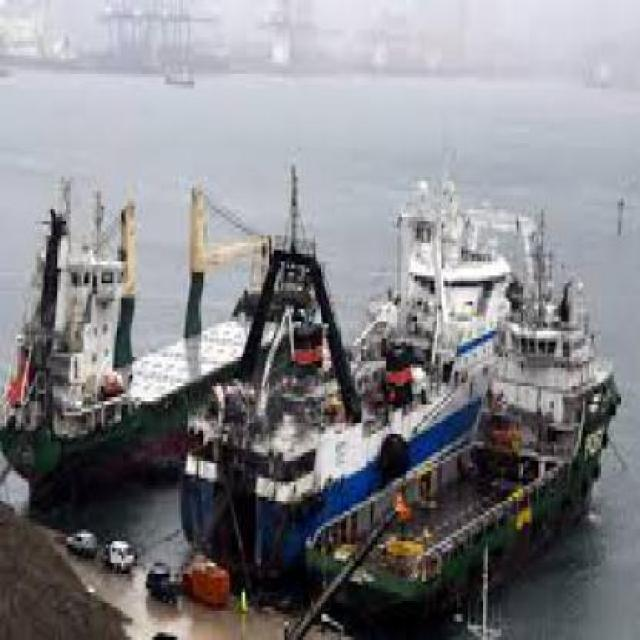Ship: (184, 170, 561, 598)
